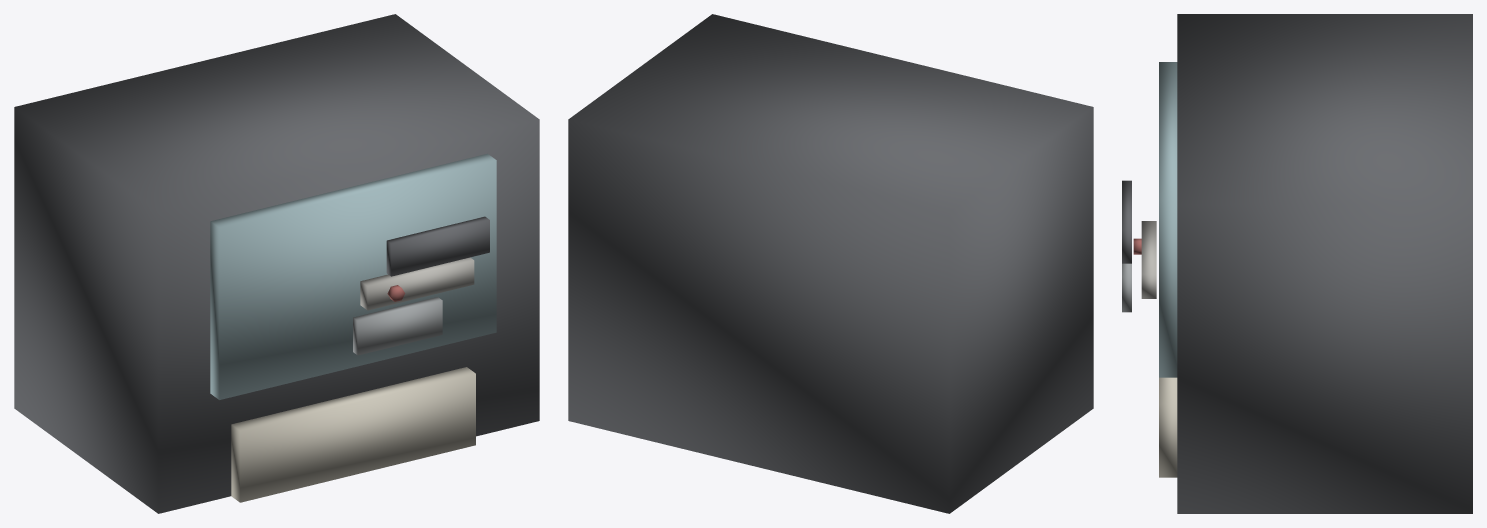
Rendered from television__weathered.glb.
3 views of the same model, side by side, from view 1: azimuth 30°, elevation 25°; view 2: azimuth 150°, elevation 25°; view 3: azimuth 270°, elevation 25° (orthographic). The views are drawn at different scales.
Visible parts, largest first — view 1: world; view 2: world; view 3: world.
Part boxes in pixels (box(x1,y1,x2,y2)): world: box(14, 14, 539, 513); world: box(568, 14, 1093, 513); world: box(1122, 14, 1472, 513).
Size of the model in its own units: 0.55 by 0.4158 by 0.4275.
